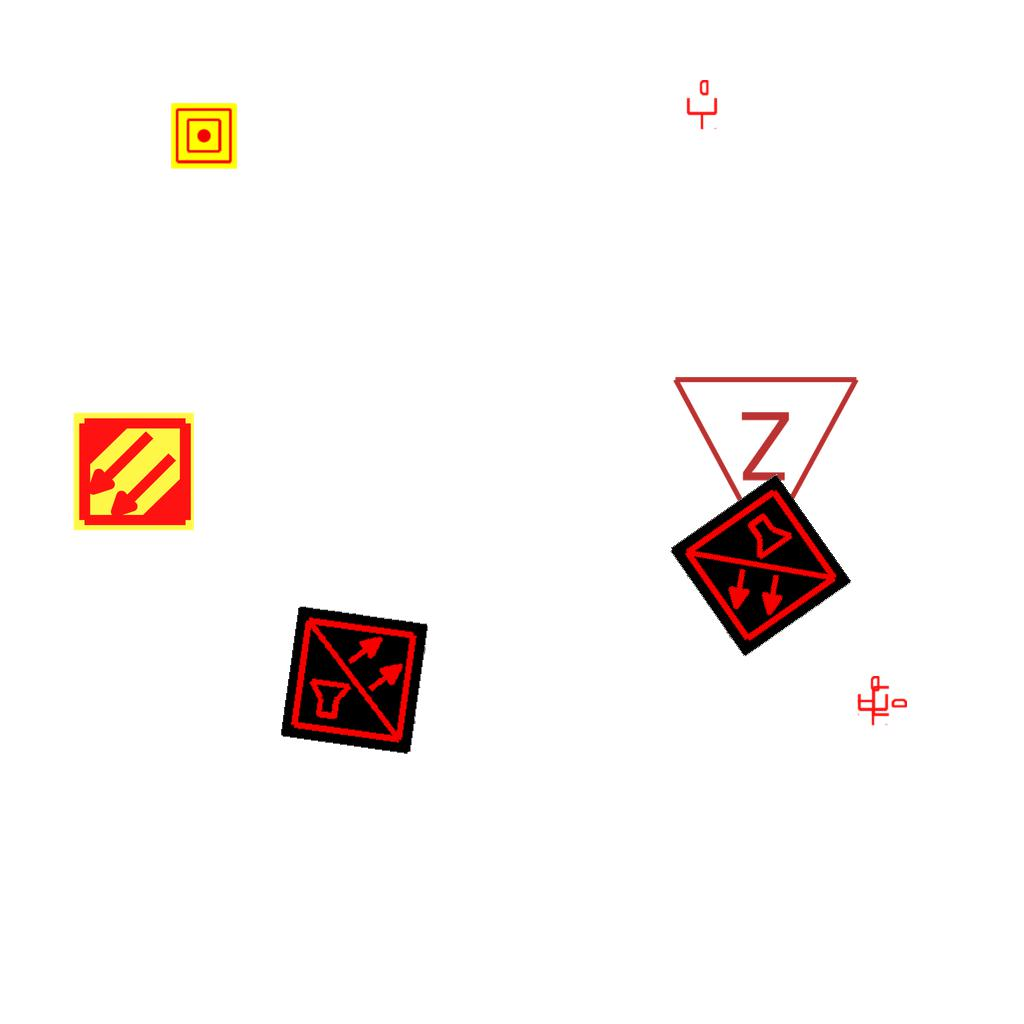ASR_Ansaugrauchmelder: (71, 409, 196, 534)
Datenanschluss_einfach: (856, 676, 890, 726), (685, 80, 719, 130), (857, 684, 907, 718)
NAM-Nichtautomatischer_Melder: (171, 103, 237, 169)
OKW_Multisensormelder_(Kombination_optischer_Rauch-Kahlenmonoxid_Waerme-Melder): (668, 474, 852, 658), (280, 605, 430, 755)
Zimmersignalleuchte: (670, 362, 866, 562)
